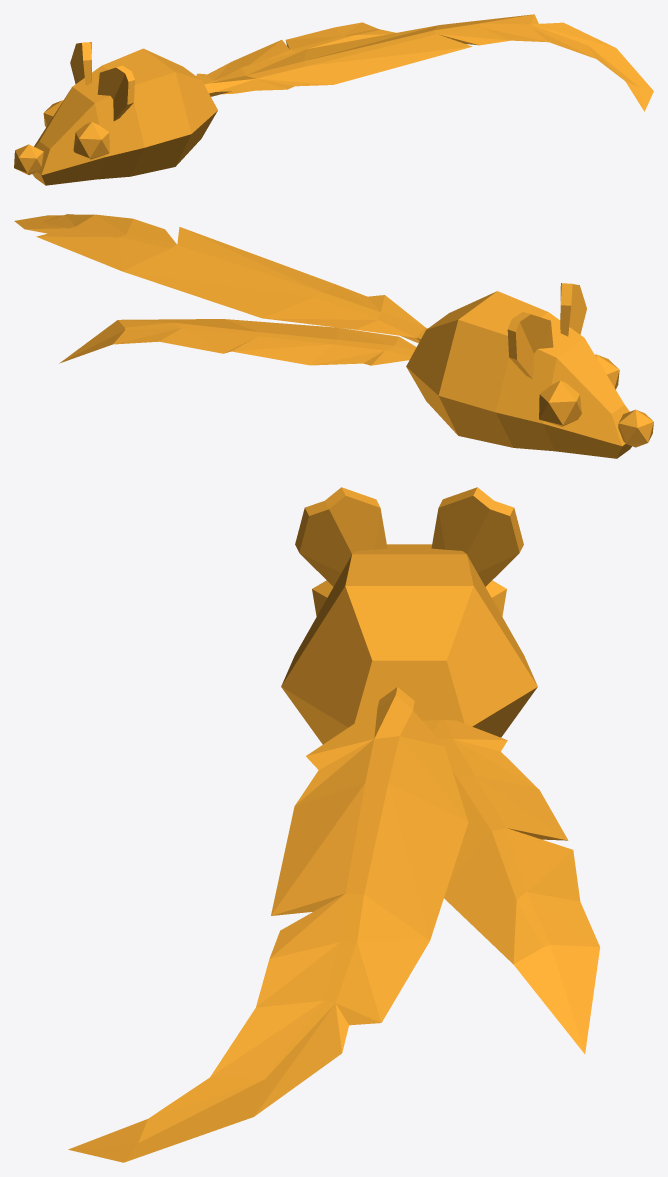
The model's file is SM_Toy_Mouse_B.fbx.
3 views of the same model, one above another, from view 1: azimuth 30°, elevation 25°; view 2: azimuth 150°, elevation 25°; view 3: azimuth 270°, elevation 25° (orthographic). The views are drawn at different scales.
Visible parts, largest first — view 1: SM_Toy_Mouse_B; view 2: SM_Toy_Mouse_B; view 3: SM_Toy_Mouse_B.
Boxes of the visible parts, x1=… form: SM_Toy_Mouse_B: x1=14, y1=14, x2=653, y2=185; SM_Toy_Mouse_B: x1=14, y1=214, x2=653, y2=458; SM_Toy_Mouse_B: x1=68, y1=487, x2=600, y2=1162.
Size of the model in its own units: 0.2246 by 0.0438 by 0.0916.
